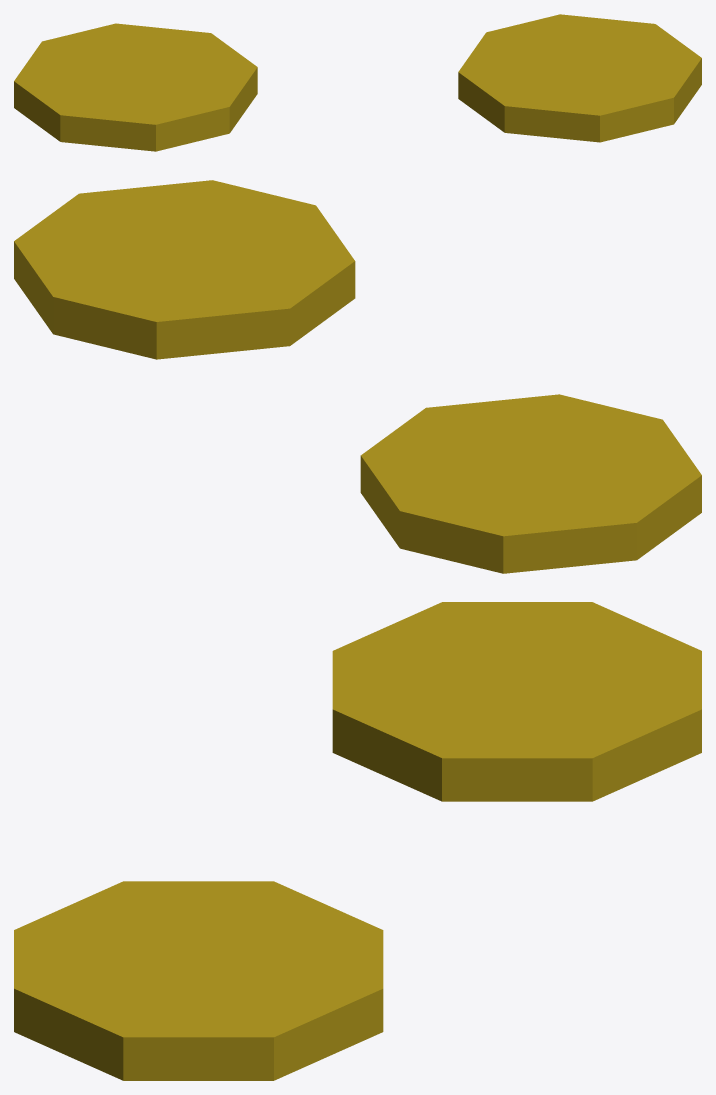
The model's file is Coin2.glb.
The picture shows the model from 3 angles, top to bottom: view 1: azimuth 30°, elevation 25°; view 2: azimuth 150°, elevation 25°; view 3: azimuth 270°, elevation 25°; orthographic projection. The views are drawn at different scales.
Parts seen in each view (by area): view 1: Cube; view 2: Cube; view 3: Cube.
Part boxes in pixels (x1,y1,x2,y2): Cube: (14,14,701,151); Cube: (14,180,701,573); Cube: (14,602,701,1080).
Size of the model in its own units: 0.2798 by 0.0148 by 0.1893.
